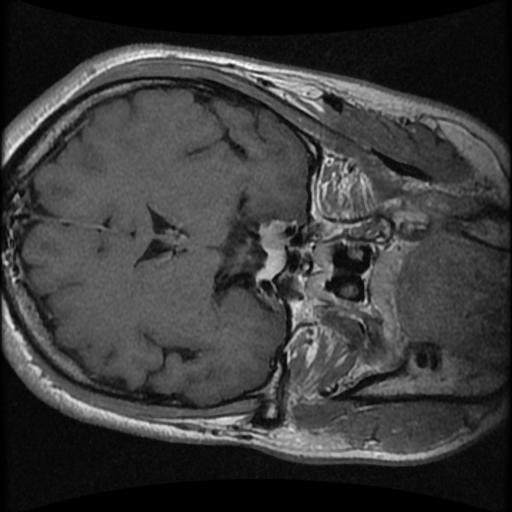pituitary tumour: (254, 218, 290, 281)
